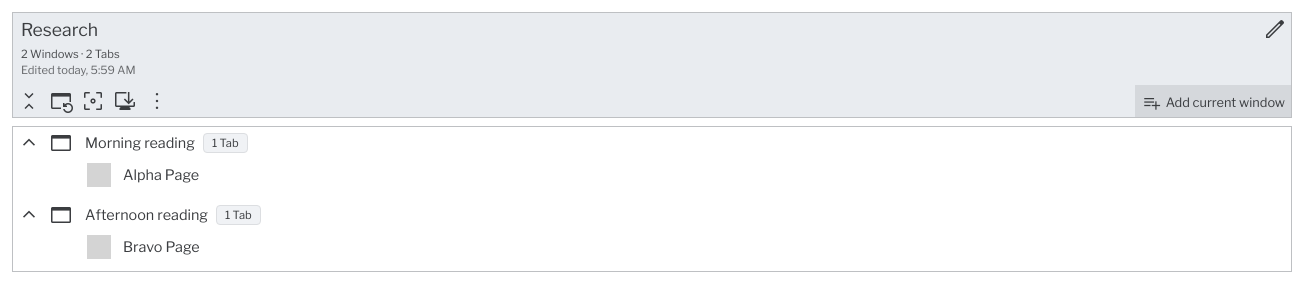
collapse every window in a session (KAN-206) › folding a session is not an edit to it › collapsing a single window neither dirties the session nor enters undo history
Expected: the text "Alpha Page" is shown, left=123, top=166, right=199, bottom=184
Click the button named "Collapse: Morning reading" at (29, 142), box left=17, top=128, right=41, bottom=156
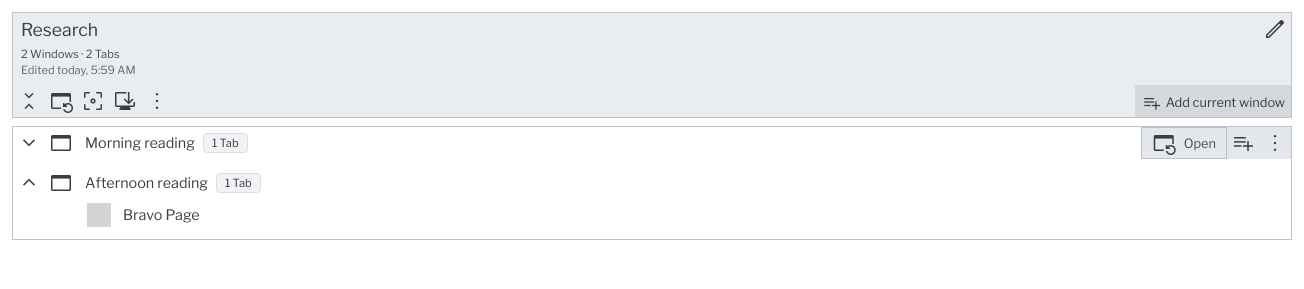
Result: the button "Alpha Page" is gone
